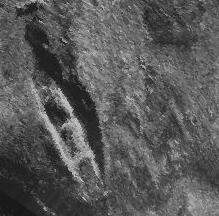ship: (19, 68, 104, 188)
